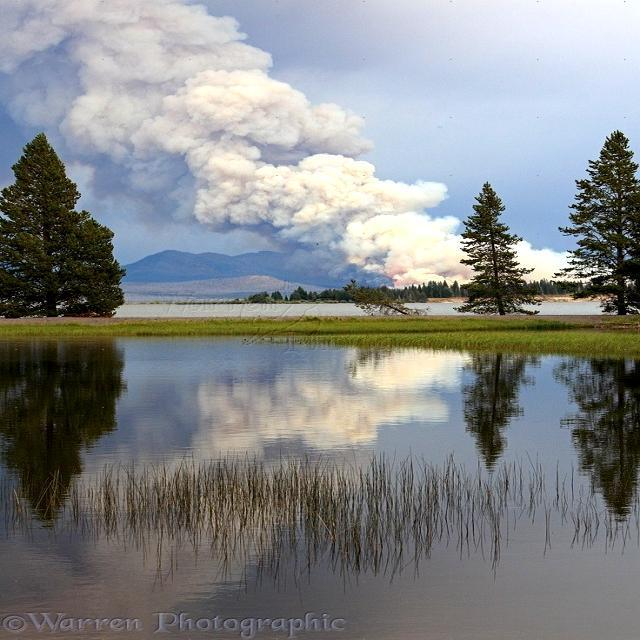Smoke: (103, 0, 468, 295)
